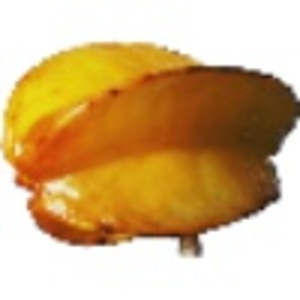carambola: (1, 39, 300, 260)
